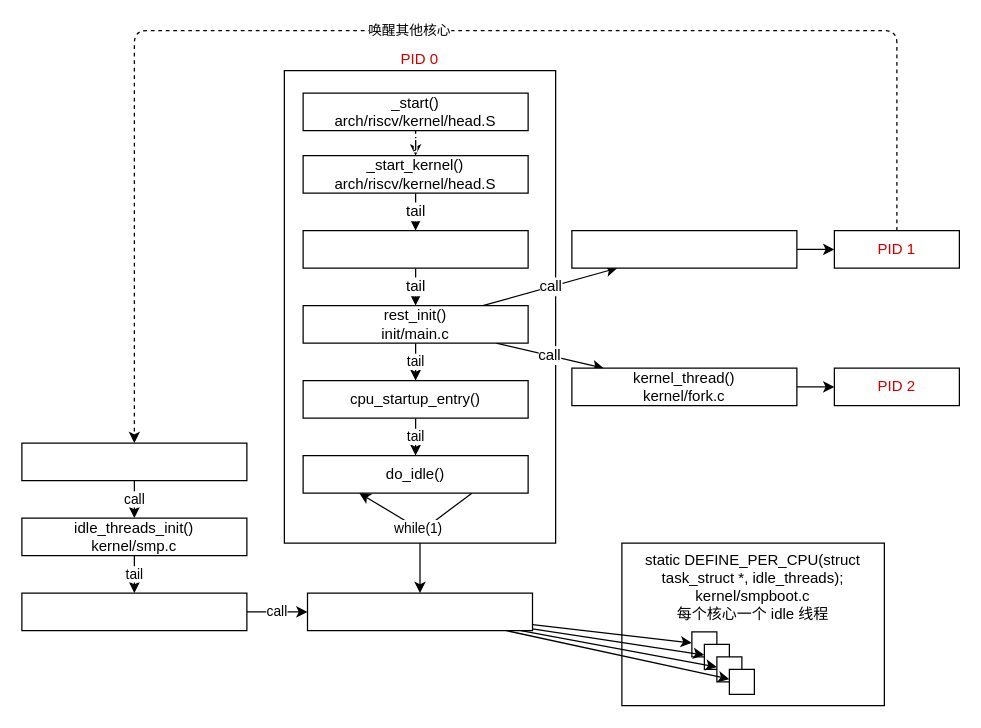
This 981x728 diagram has some shape labels left out. The shapes that lost their labels are listed below. From the top down, each one's centre as x and y in pixels, then its label:
(415,248): start_kernel() init/main.c
(684,248): user_mode_thread() kernel/fork.c
(134,461): smp_init() kernel/smp.c
(134,611): idle_init() kernel/smpboot.c
(419,611): fork_idle() kernel/fork.c
